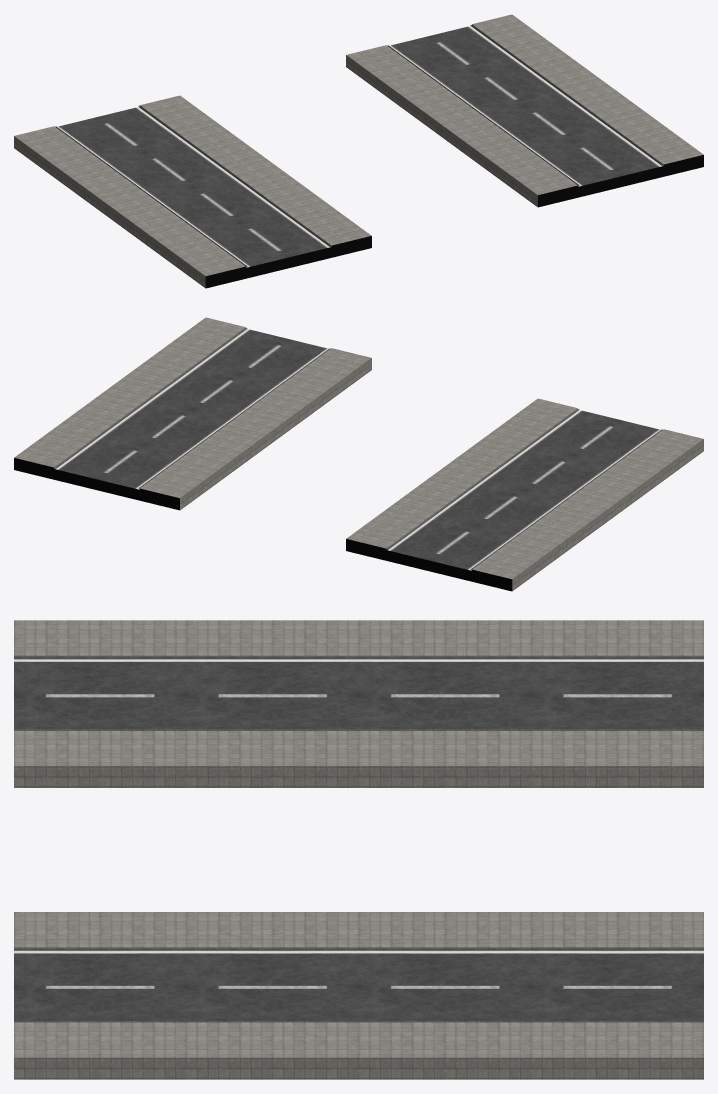
File: doubleStraight_1.fbx
3 views of the same model, one above another, from view 1: azimuth 30°, elevation 25°; view 2: azimuth 150°, elevation 25°; view 3: azimuth 270°, elevation 25° (orthographic). The views are drawn at different scales.
Parts seen in each view (by area): view 1: materialC150, materialA150, materialB150, materialE150; view 2: materialC150, materialA150, materialB150, materialE150; view 3: materialC150, materialA150, materialE150.
Part boxes in pixels (x1,y1,x2,y2): materialC150: (14, 14, 703, 287); materialA150: (57, 26, 661, 267); materialB150: (139, 105, 703, 288); materialE150: (55, 24, 662, 266); materialC150: (14, 317, 703, 590); materialA150: (56, 329, 660, 570); materialB150: (14, 458, 512, 591); materialE150: (54, 328, 662, 569); materialC150: (14, 620, 703, 1079); materialA150: (14, 659, 703, 1021); materialE150: (14, 655, 703, 1022).
Bounding box in the file's own units: 76.8 × 1.8 × 51.2.
